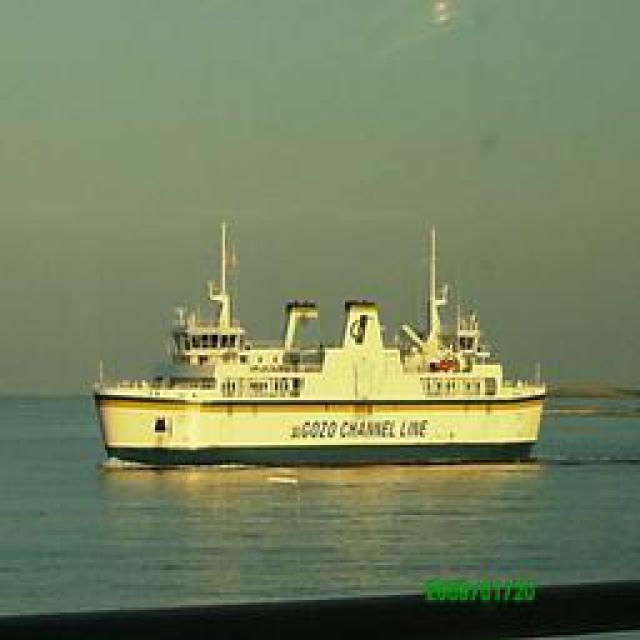Ship: (91, 206, 556, 471)
